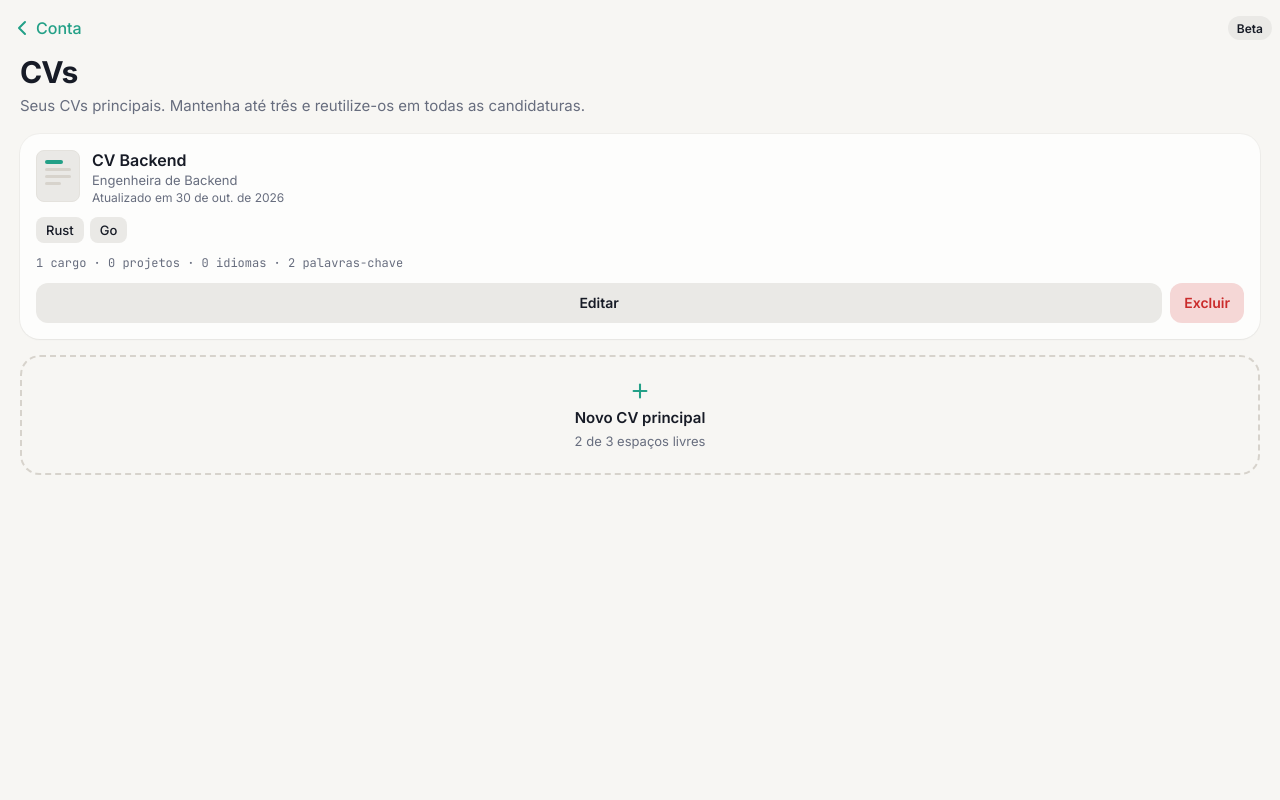
the job, CV and draft boards in Portuguese below md › CVs and its delete sheet
The width and height of the screenshot is (1280, 800).
Expected: the heading "CV Backend" is shown, [92, 150, 186, 170]
Expected: the heading "CVs" is shown, [20, 54, 77, 90]
Click the button with aria-label "Excluir CV Backend" at (1207, 302), box [1170, 280, 1244, 324]
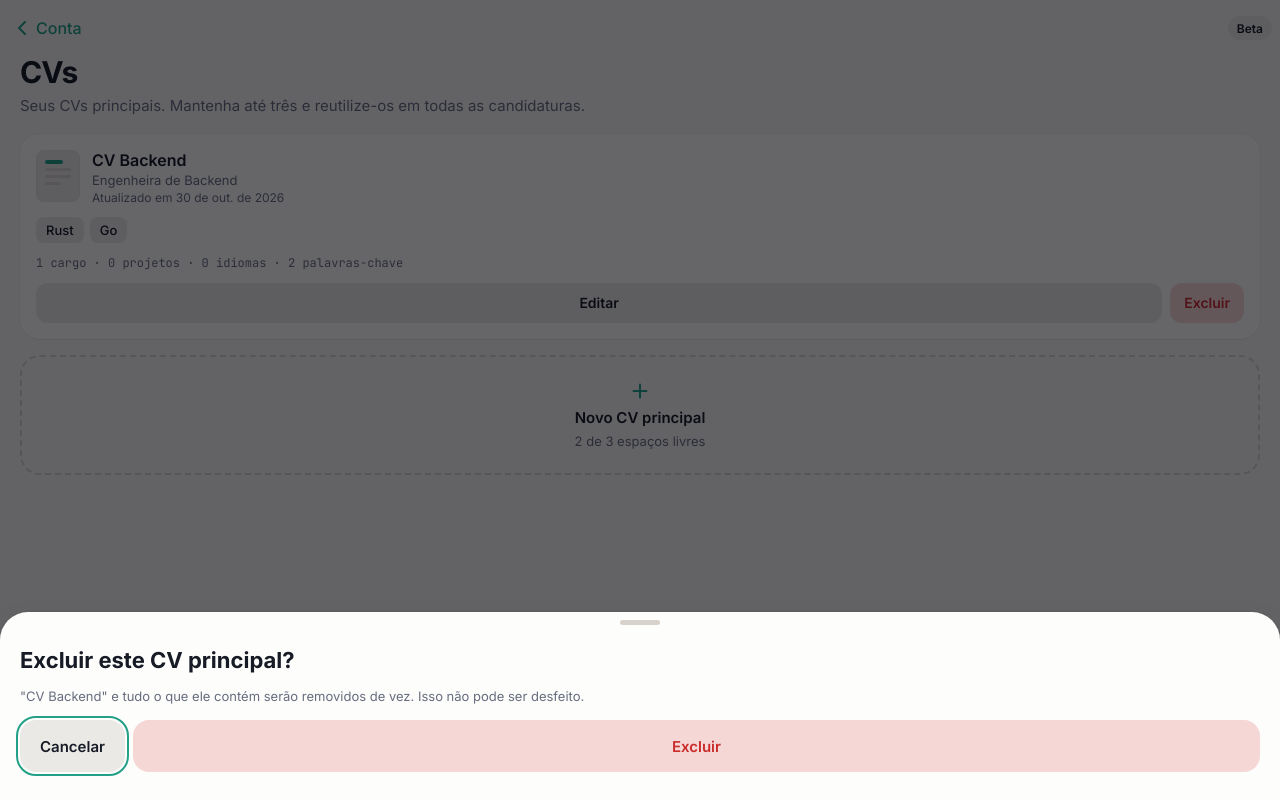
Expected: the dialog is shown, [0, 612, 1279, 799]
